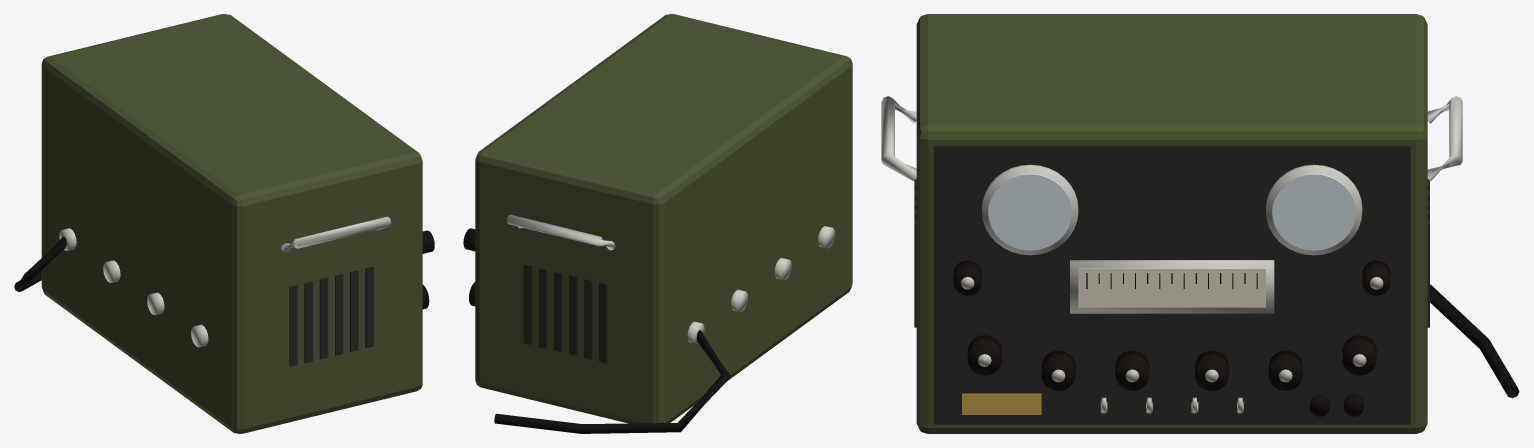
Rendered from field_radio.glb.
The picture shows the model from 3 angles, left to right: view 1: azimuth 30°, elevation 25°; view 2: azimuth 150°, elevation 25°; view 3: azimuth 270°, elevation 25°; orthographic projection. The views are drawn at different scales.
Parts seen in each view (by area): view 1: field_radio_case, field_radio_panel, field_radio_chrome, field_radio_rubber, field_radio_bakelite; view 2: field_radio_case, field_radio_panel, field_radio_rubber, field_radio_chrome, field_radio_bakelite; view 3: field_radio_panel, field_radio_case, field_radio_chrome, field_radio_glass, field_radio_bakelite, field_radio_dial, field_radio_rubber, field_radio_brass.
Boxes of the visible parts, x1=… form: field_radio_case: x1=41, y1=14, x2=422, y2=433; field_radio_panel: x1=289, y1=266, x2=373, y2=366; field_radio_chrome: x1=59, y1=216, x2=391, y2=347; field_radio_rubber: x1=14, y1=236, x2=66, y2=291; field_radio_bakelite: x1=422, y1=230, x2=434, y2=309; field_radio_case: x1=475, y1=14, x2=852, y2=423; field_radio_panel: x1=523, y1=263, x2=607, y2=363; field_radio_rubber: x1=494, y1=330, x2=730, y2=433; field_radio_chrome: x1=506, y1=214, x2=835, y2=343; field_radio_bakelite: x1=463, y1=228, x2=475, y2=306; field_radio_panel: x1=914, y1=145, x2=1429, y2=424; field_radio_case: x1=916, y1=14, x2=1427, y2=433; field_radio_chrome: x1=881, y1=96, x2=1462, y2=413; field_radio_glass: x1=988, y1=173, x2=1355, y2=250; field_radio_bakelite: x1=953, y1=260, x2=1390, y2=416; field_radio_dial: x1=1078, y1=268, x2=1265, y2=307; field_radio_rubber: x1=1430, y1=284, x2=1519, y2=398; field_radio_brass: x1=962, y1=393, x2=1041, y2=414.
Bounding box in the file's own units: 0.6748 × 0.6 × 1.12.
